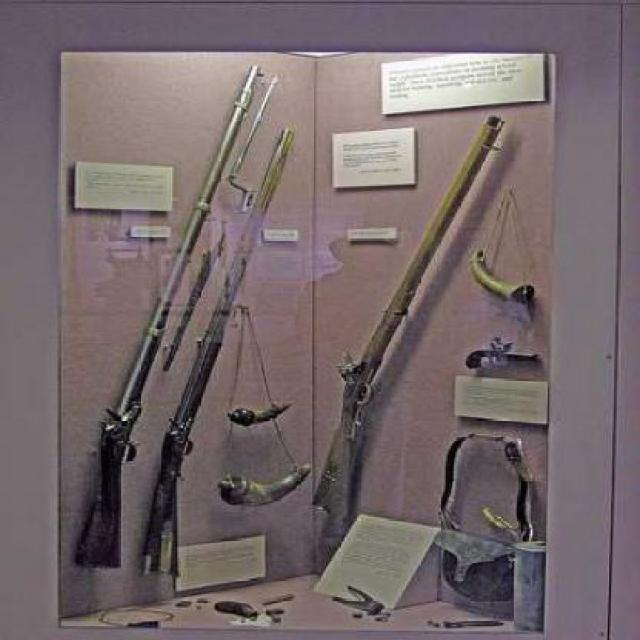weapon: (82, 68, 258, 560), (317, 110, 504, 518), (132, 120, 282, 574)
